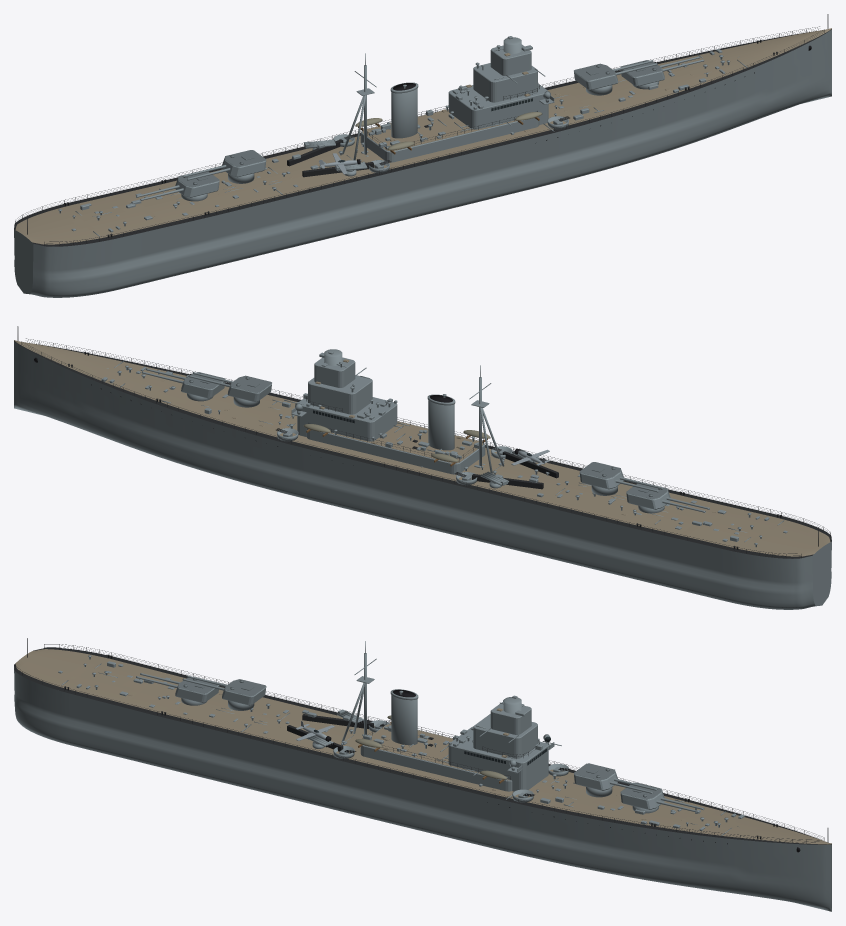
Rendered from hipper.glb.
3 renders of one model, top to bottom at view 1: azimuth 30°, elevation 25°; view 2: azimuth 150°, elevation 25°; view 3: azimuth 330°, elevation 25°, orthographic.
Parts seen in each view (by area): view 1: hipper, T_2_malla, T_1_malla, T_3_malla, T_0_malla; view 2: hipper, T_2_malla, T_1_malla, T_3_malla, T_0_malla; view 3: hipper, T_1_malla, T_2_malla, T_0_malla, T_3_malla.
Part boxes in pixels (x1=…): hipper: x1=14, y1=14, x2=831, y2=297; T_2_malla: x1=222, y1=150, x2=266, y2=177; T_1_malla: x1=574, y1=63, x2=618, y2=89; T_3_malla: x1=175, y1=171, x2=219, y2=197; T_0_malla: x1=620, y1=60, x2=664, y2=86; hipper: x1=14, y1=326, x2=831, y2=609; T_2_malla: x1=579, y1=462, x2=623, y2=489; T_1_malla: x1=227, y1=375, x2=271, y2=401; T_3_malla: x1=626, y1=483, x2=670, y2=509; T_0_malla: x1=181, y1=372, x2=225, y2=398; hipper: x1=14, y1=638, x2=831, y2=911; T_1_malla: x1=574, y1=763, x2=617, y2=790; T_2_malla: x1=222, y1=679, x2=266, y2=705; T_0_malla: x1=620, y1=782, x2=664, y2=809; T_3_malla: x1=175, y1=676, x2=219, y2=702.
Bounding box in the file's own units: 208 × 38.5 × 21.73.
